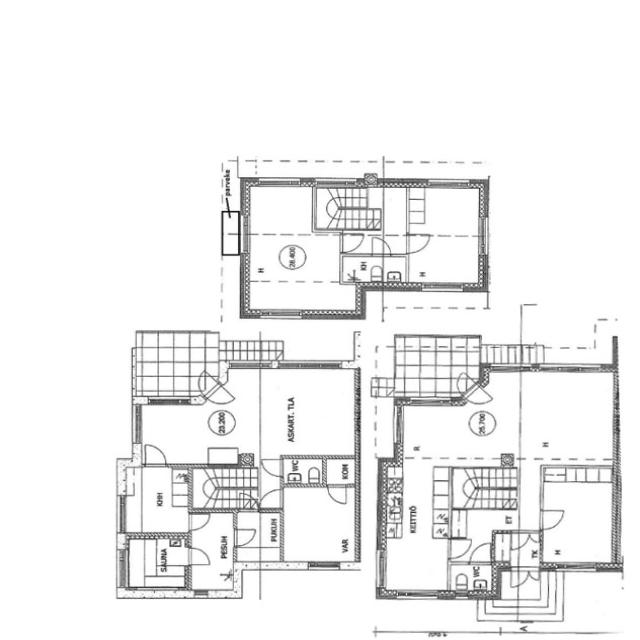door: (499, 530, 530, 561), (140, 441, 170, 468), (537, 507, 566, 531), (339, 231, 368, 255), (468, 540, 494, 566), (446, 537, 473, 561), (258, 486, 284, 510), (232, 526, 259, 548), (185, 510, 212, 532), (186, 546, 213, 568), (259, 456, 285, 478), (405, 233, 432, 254), (325, 484, 348, 505), (510, 567, 532, 588), (509, 531, 531, 551), (371, 237, 392, 256), (524, 567, 542, 585)
window: (534, 362, 604, 378), (127, 402, 145, 448), (256, 307, 304, 323), (281, 361, 344, 373), (388, 404, 404, 449), (393, 588, 440, 603), (373, 546, 389, 590), (112, 492, 128, 536), (477, 214, 492, 257), (404, 396, 454, 408), (256, 177, 303, 189), (558, 561, 598, 575), (424, 179, 470, 190), (419, 283, 464, 294), (305, 560, 342, 573), (190, 588, 212, 600)
zone: (241, 183, 361, 316), (378, 469, 452, 596), (258, 368, 357, 458), (520, 370, 615, 463), (537, 466, 616, 569), (135, 402, 252, 468), (395, 402, 513, 464), (280, 485, 356, 565), (118, 465, 190, 538), (406, 235, 484, 289), (242, 235, 342, 277), (188, 510, 238, 592), (407, 186, 484, 237), (242, 182, 315, 235), (120, 536, 189, 592), (448, 562, 498, 598), (282, 456, 324, 486), (340, 255, 382, 283), (322, 457, 358, 487), (382, 255, 409, 284), (490, 532, 510, 566)
